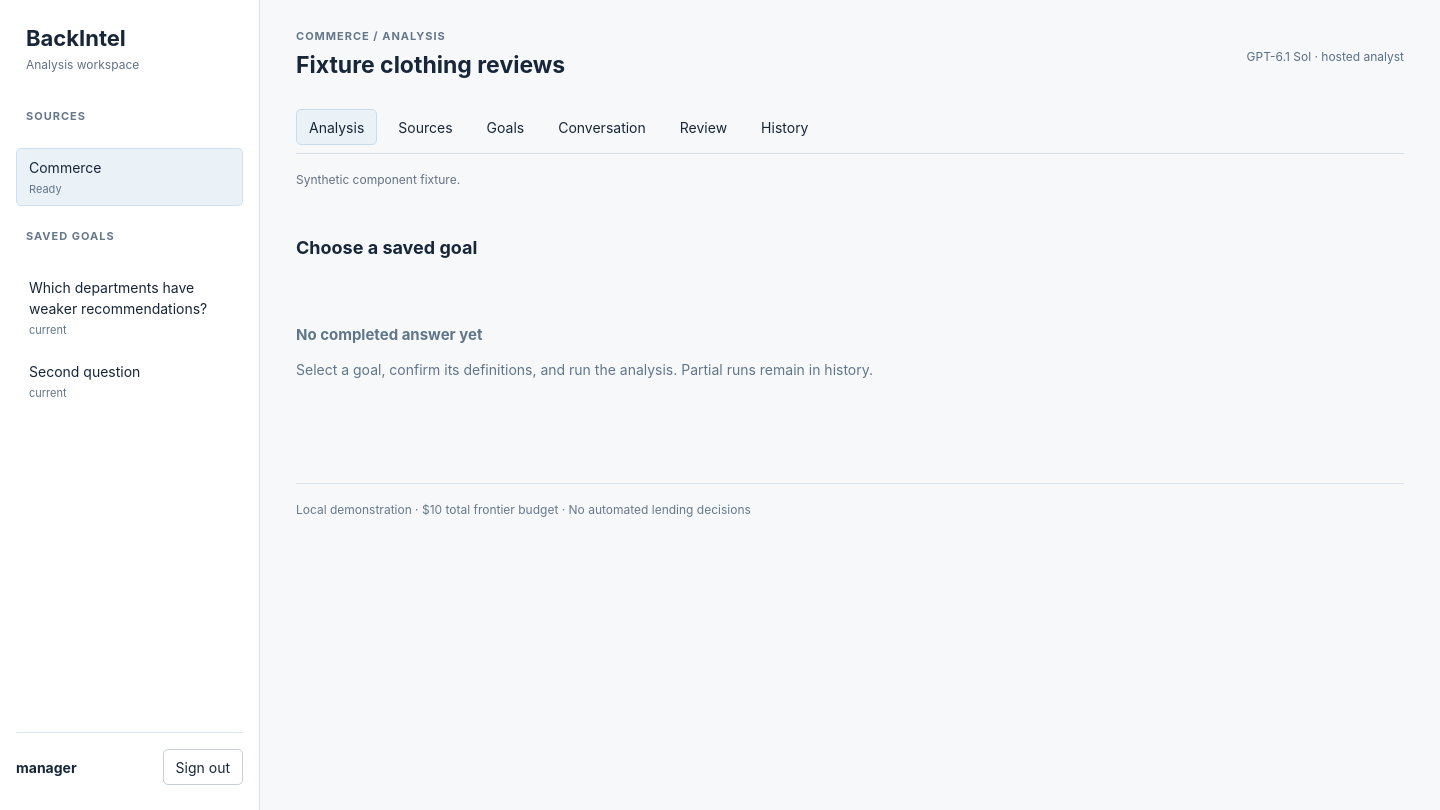
Test: analysis workspace user controls › discards delayed candidates and reviews from a previously selected goal
The image size is (1440, 810).
Click the button "Which departments have weaker recommendations? current".
click(130, 307)  # box [16,268,243,347]
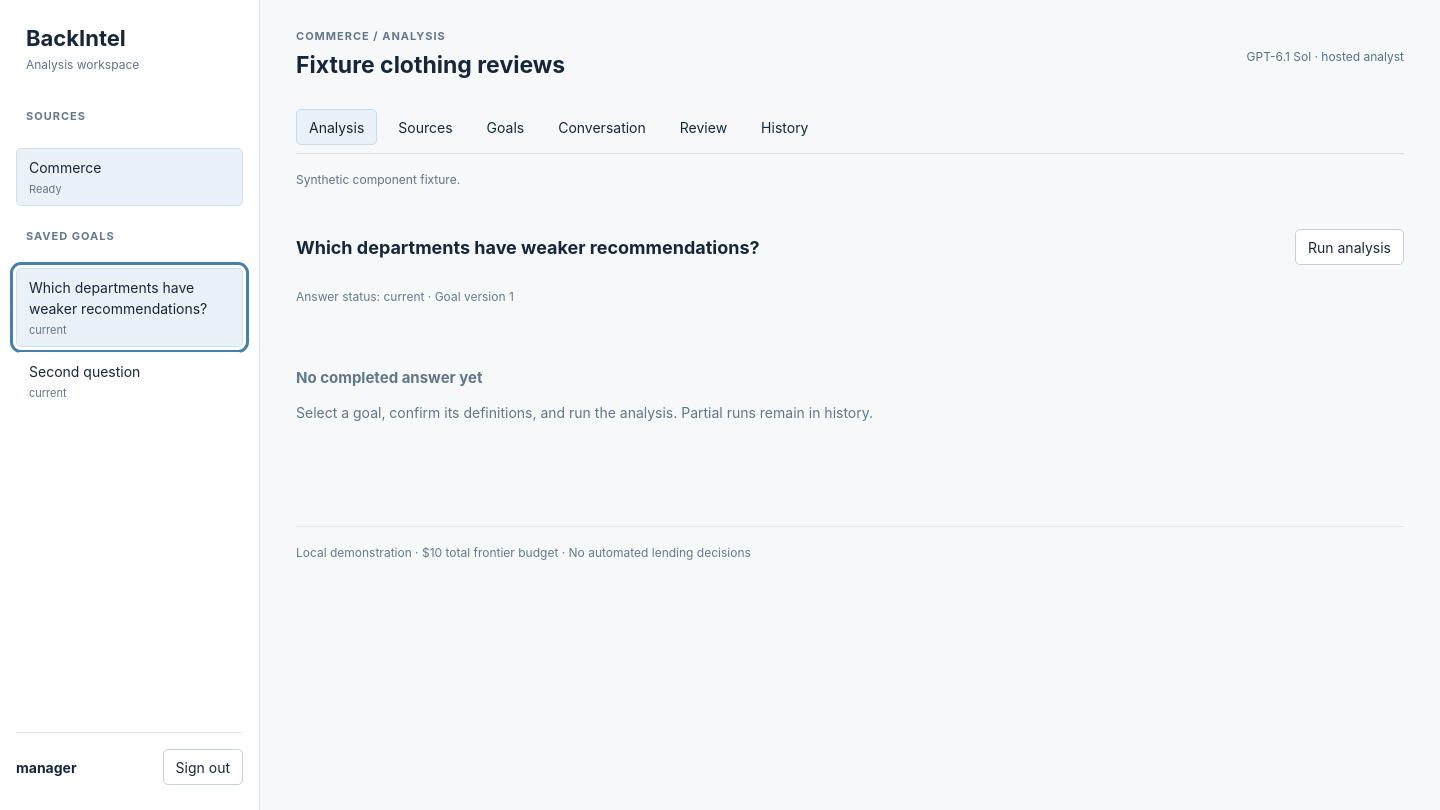
Click the button "Second question current".
click(130, 381)  # box [16,352,243,411]
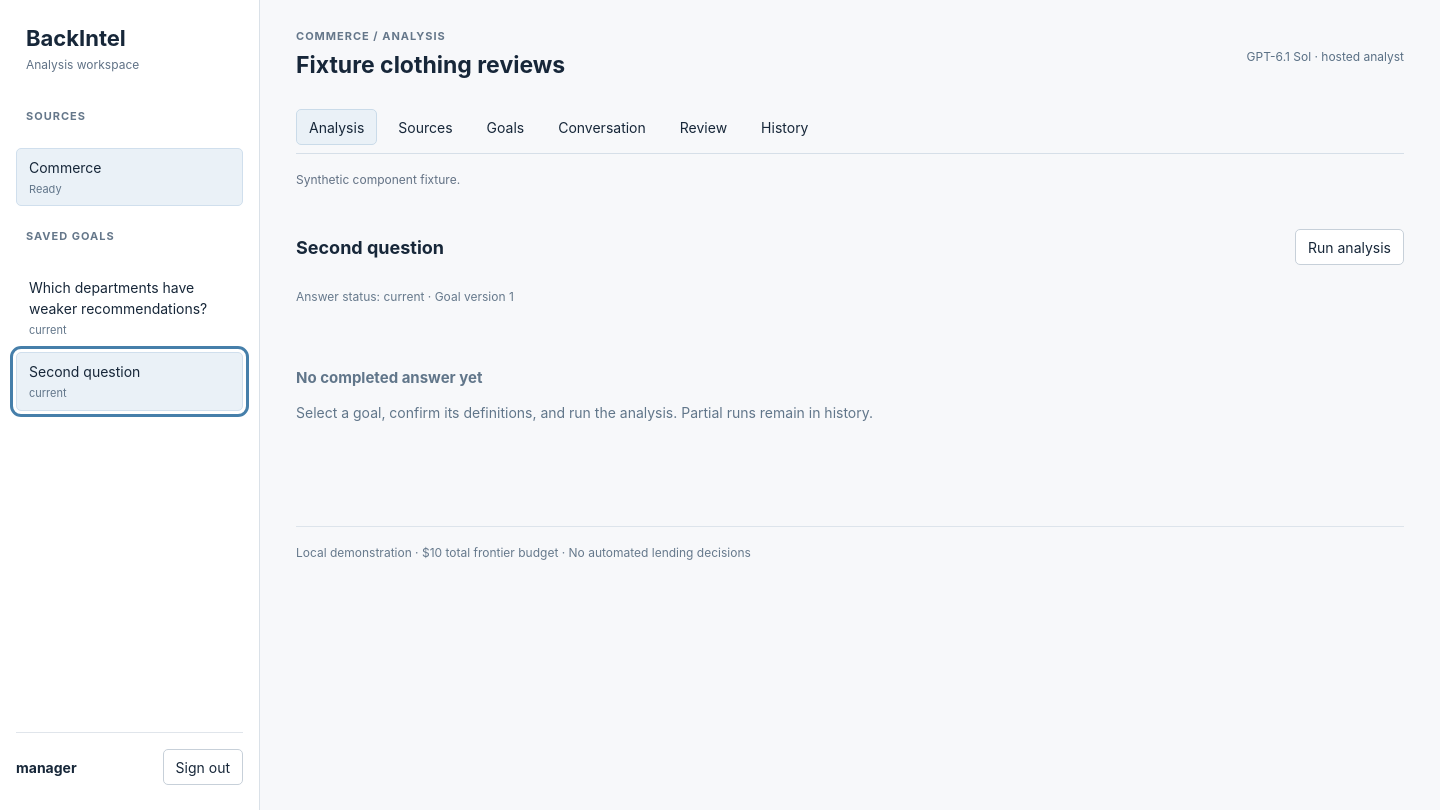
Click the button "Review".
click(703, 128)  # box [667,110,740,146]
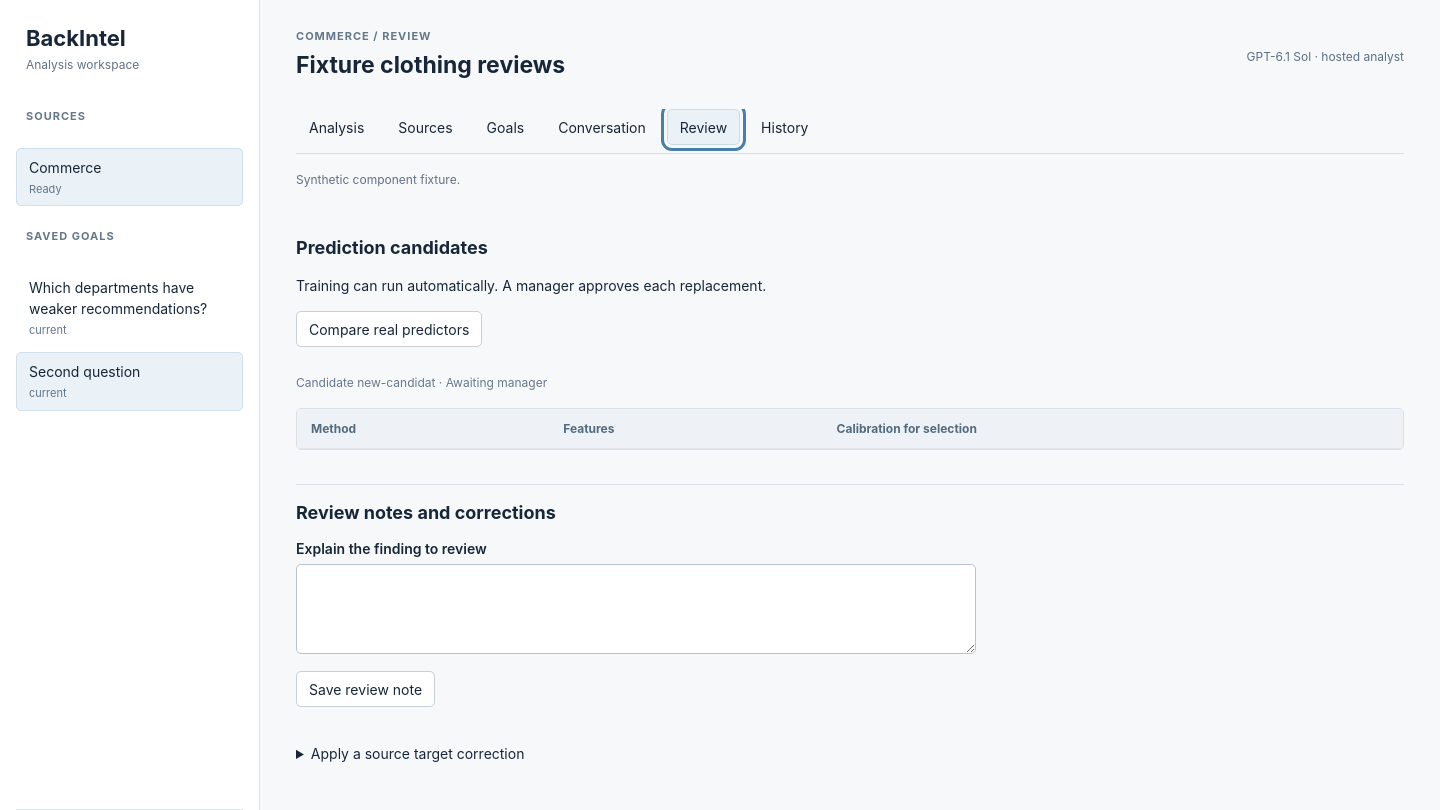
Check: the text "Candidate new-candidat · Awaiting manager" is shown, box [296,375,547,390]
